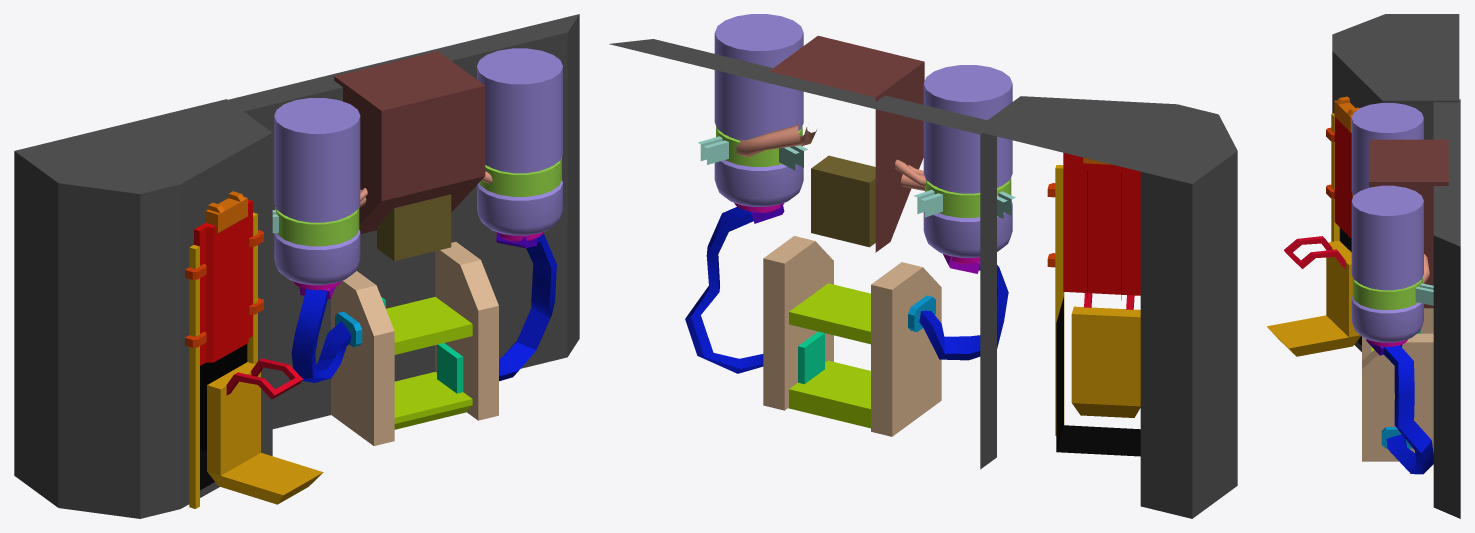
File: turret_station.glb
3 views of the same model, side by side, from view 1: azimuth 30°, elevation 25°; view 2: azimuth 150°, elevation 25°; view 3: azimuth 270°, elevation 25° (orthographic). The views are drawn at different scales.
Visible parts, largest first — view 1: Cube, Cube.003, Cube.012, Cylinder, Cylinder.003, Cube.008, Cube.001, Cube.018, Cube.005, Cube.013, Cube.017, Cube.022 (+9 smaller); view 2: Cube, Cylinder.003, Cube.003, Cylinder, Cube.012, Cube.005, Cube.008, Cube.018, Cube.001, Cube.013, Cube.011, Cube.015 (+9 smaller); view 3: Cube, Cube.003, Cylinder.003, Cube.018, Cube.012, Cube.001, Cylinder, Cube.023, Cube.005, Cylinder.005, Cube.002, Cube.026 (+4 smaller).
Boxes of the visible parts, <box> form: Cube: <box>14,99,272,518</box>; Cube.003: <box>228,14,579,428</box>; Cube.012: <box>334,51,485,234</box>; Cylinder: <box>274,98,360,285</box>; Cylinder.003: <box>477,48,562,235</box>; Cube.008: <box>331,271,394,445</box>; Cube.001: <box>207,362,323,504</box>; Cube.018: <box>435,242,498,420</box>; Cube.005: <box>194,199,252,365</box>; Cube.013: <box>377,194,451,260</box>; Cube.017: <box>189,212,257,508</box>; Cube.022: <box>291,289,351,382</box>; Cube: <box>973,96,1237,518</box>; Cylinder.003: <box>714,14,803,206</box>; Cube.003: <box>609,39,996,469</box>; Cylinder: <box>923,65,1012,257</box>; Cube.012: <box>769,35,924,252</box>; Cube.005: <box>1063,152,1140,295</box>; Cube.008: <box>871,262,941,436</box>; Cube.018: <box>763,236,833,410</box>; Cube.001: <box>1071,306,1140,417</box>; Cube.013: <box>811,155,875,247</box>; Cube.011: <box>788,360,870,428</box>; Cube.015: <box>789,283,870,344</box>; Cube: <box>1332,14,1459,351</box>; Cube.003: <box>1433,99,1460,518</box>; Cylinder.003: <box>1351,185,1423,342</box>; Cube.018: <box>1362,333,1433,461</box>; Cube.012: <box>1369,139,1448,308</box>; Cube.001: <box>1267,240,1360,356</box>; Cylinder: <box>1351,103,1423,195</box>; Cube.023: <box>1383,345,1433,474</box>; Cube.005: <box>1334,117,1352,238</box>; Cylinder.005: <box>1352,277,1422,309</box>; Cube.002: <box>1284,236,1345,269</box>; Cube.026: <box>1334,96,1359,132</box>.
Size of the model in its own units: 8.77 by 4.9 by 3.11.
